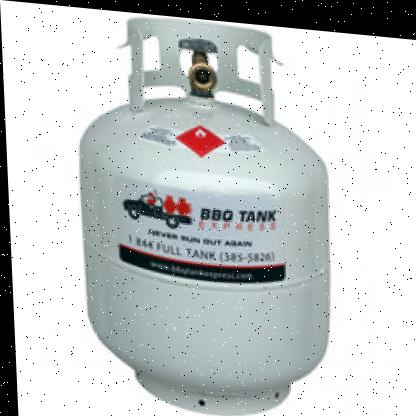gas-tank: (57, 4, 352, 415)
